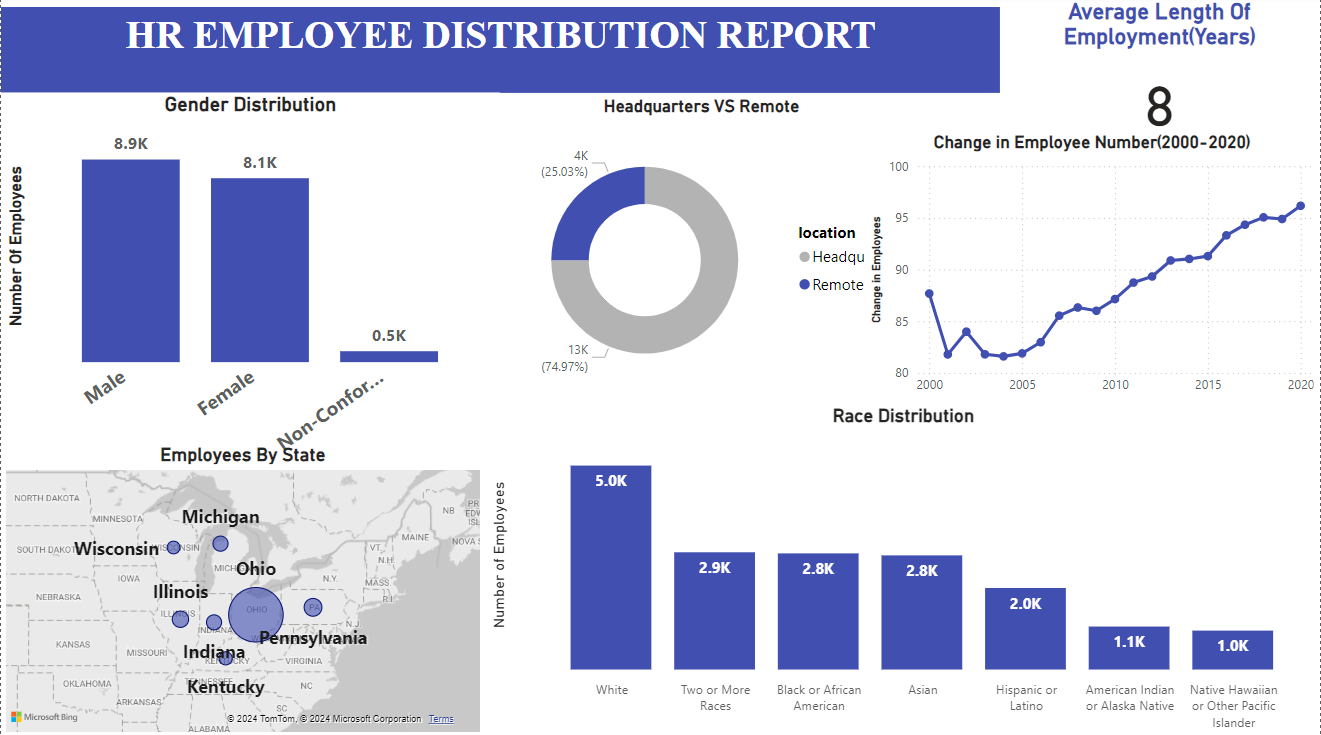

The dashboard page shown, as its layout file describes it:
{"tool":"powerbi","page":{"name":"Page 1","canvas":[1280,720],"ordinal":0},"visuals":[{"type":"textbox","box":[0,11.3,969.5,83.2],"z":0},{"type":"textbox","box":[10,230.5,1270,181],"z":1000},{"type":"card","title":"Average Length Of Employment(Years)","fields":{"Values":["Sum(avg_length_employment.avg_length_emplpyment)"]},"box":[969.9,3.2,309.3,147.3],"z":2000},{"type":"clusteredColumnChart","title":"Gender Distribution","fields":{"Category":["gender.gender"],"Y":["Sum(gender.COUNT)"]},"box":[0,93.9,484.1,364.3],"z":3000},{"type":"donutChart","title":"Headquarters VS Remote","fields":{"Y":["Sum(location.COUNT)"],"Category":["location.location"]},"box":[469.6,97.2,419.4,299.6],"z":4000},{"type":"lineChart","title":"Change in Employee Number(2000-2020)","fields":{"Category":["employees_change.year"],"Y":["Sum(employees_change.net_chane_percent)"]},"box":[838.8,132.8,440.4,263.9],"z":5000},{"type":"map","title":"Employees By State","fields":{"Size":["Sum(location_state.count)"],"Category":["location_state.location_state"]},"box":[0,435.6,469.6,285],"z":6000},{"type":"clusteredColumnChart","title":"Race Distribution","fields":{"Category":["race.race"],"Y":["Sum(race.COUNT)"]},"box":[469.6,396.7,811.2,323.8],"z":7000}]}

Visuals, with their boxes in screenshot pixels (x1, y1, x2, y2), scaled from the page's 1280x720 canvas onto the 1321x735 screenshot:
textbox: <bbox>0, 12, 1001, 96</bbox>
textbox: <bbox>10, 235, 1320, 420</bbox>
"Average Length Of Employment(Years)" card: <bbox>1001, 3, 1320, 154</bbox>
"Gender Distribution" clusteredColumnChart: <bbox>0, 96, 500, 468</bbox>
"Headquarters VS Remote" donutChart: <bbox>485, 99, 917, 405</bbox>
"Change in Employee Number(2000-2020)" lineChart: <bbox>866, 136, 1320, 405</bbox>
"Employees By State" map: <bbox>0, 445, 485, 734</bbox>
"Race Distribution" clusteredColumnChart: <bbox>485, 405, 1320, 734</bbox>
